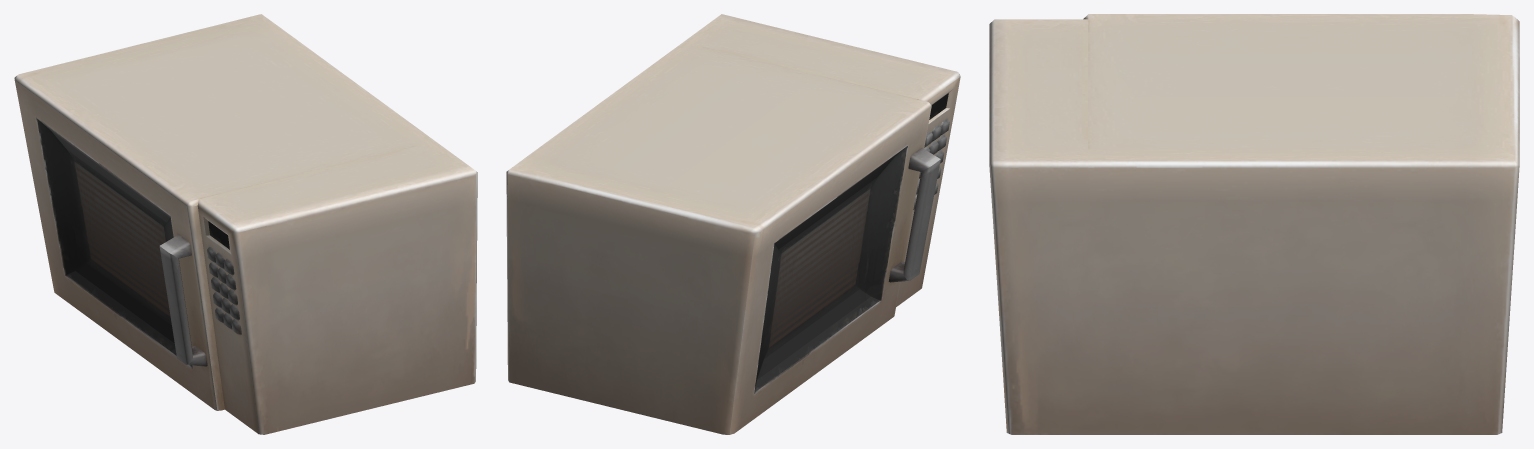
Rendered from SM_Microwave.fbx.
The picture shows the model from 3 angles, left to right: view 1: azimuth 30°, elevation 25°; view 2: azimuth 150°, elevation 25°; view 3: azimuth 270°, elevation 25°; orthographic projection. The views are drawn at different scales.
Visible parts, largest first — view 1: SM_Microwave_LOD0; view 2: SM_Microwave_LOD0; view 3: SM_Microwave_LOD0.
Boxes of the visible parts, bbox=[...] form: SM_Microwave_LOD0: bbox=[14, 14, 477, 434]; SM_Microwave_LOD0: bbox=[506, 14, 960, 434]; SM_Microwave_LOD0: bbox=[989, 14, 1519, 434].
Bounding box in the file's own units: 50.98 × 70.37 × 39.33.
Materials: 1 (1 with a texture image).
